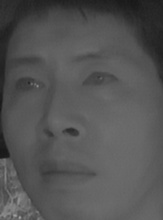eye: (82, 65, 119, 92), (12, 72, 49, 97)
mouth: (35, 156, 98, 194)
